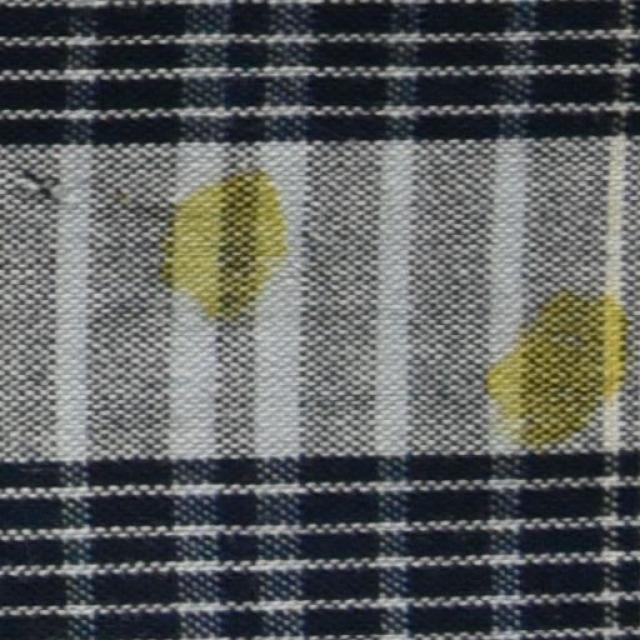Stain: (160, 157, 288, 318), (499, 302, 639, 432)
